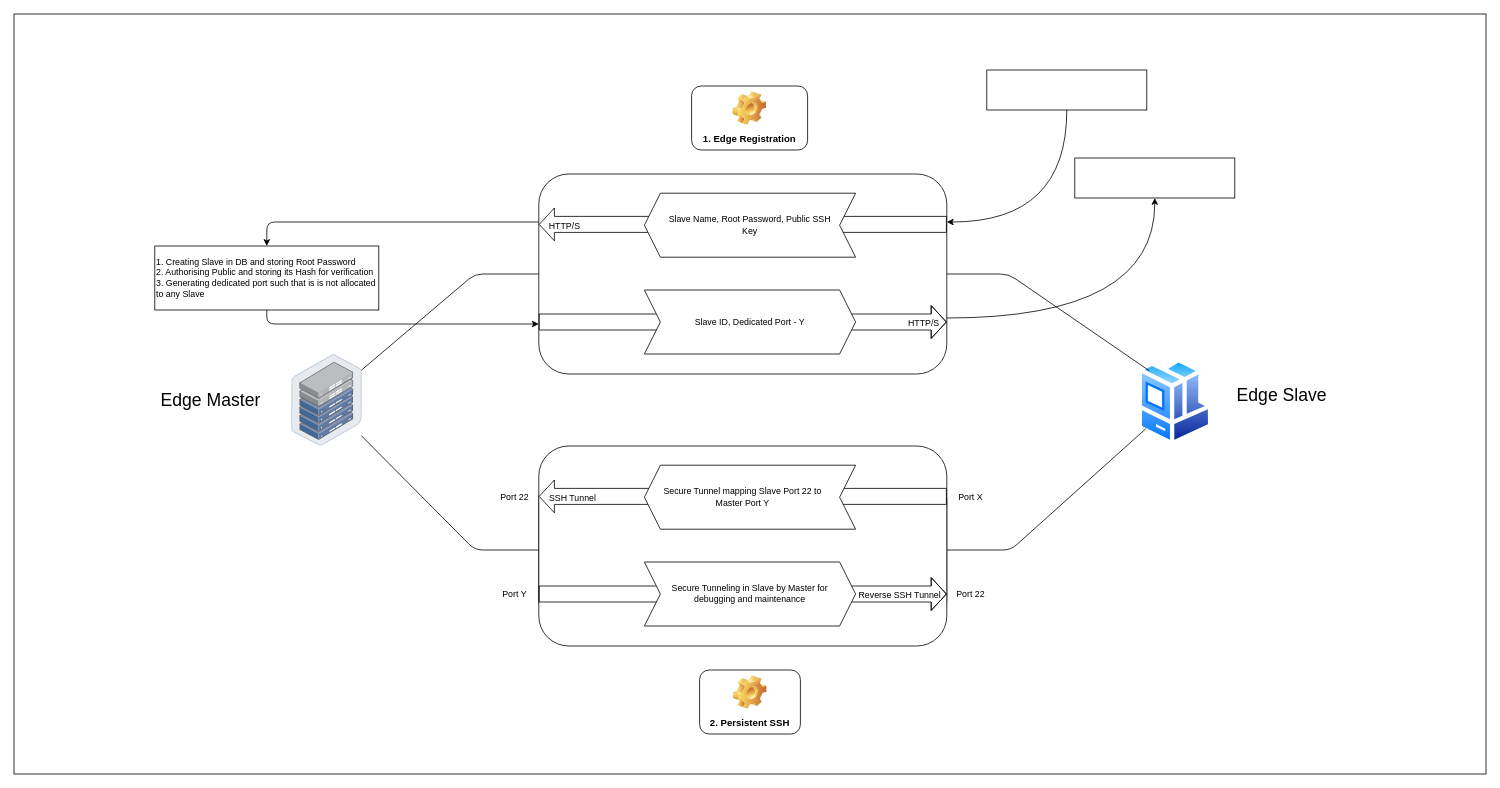
Image size: 1500x788. Some labels were removed from this diagram. The box of each missing label's shape, as (x1, y1, x2, y2) in pixels:
1. Changing Root Password 2. Creating Secure Tunnel Service and enabling it: (1074, 157, 1235, 198)
1. Get Slave Name 2. Generate Random Root Password: (986, 69, 1147, 110)
